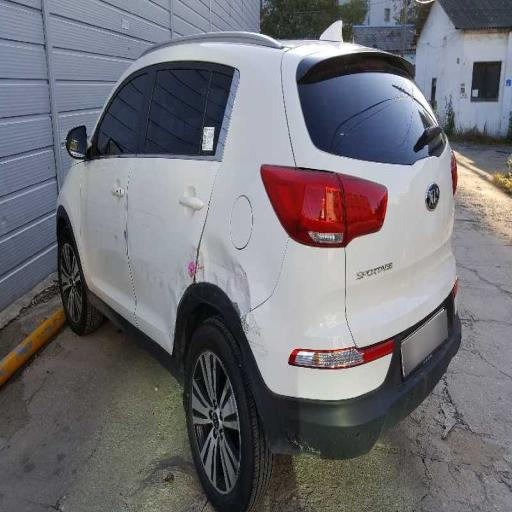dent: (107, 177, 285, 338)
